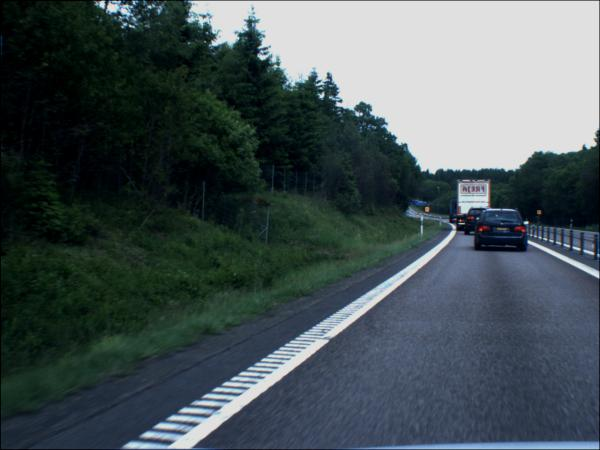70_SIGN: (425, 208, 430, 214), (537, 211, 542, 216)
